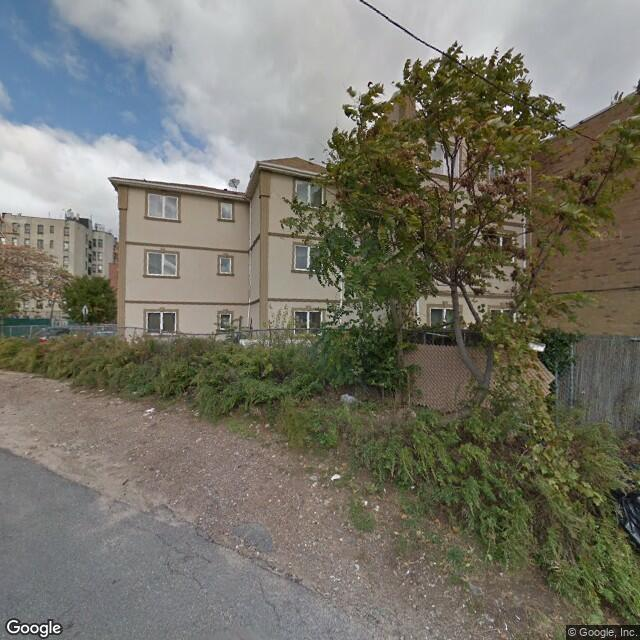litter: (147, 407, 154, 413), (331, 475, 341, 479)
